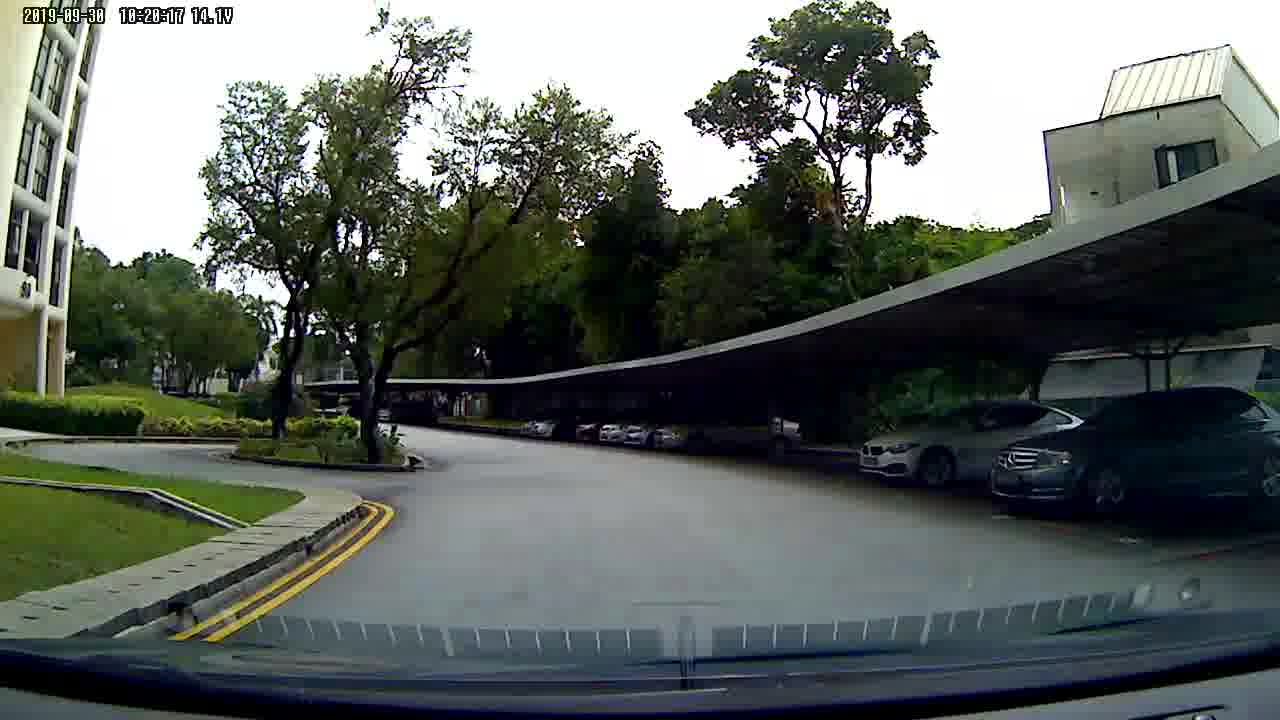car: (1000, 386, 1280, 537), (513, 404, 807, 459), (856, 398, 999, 486)
